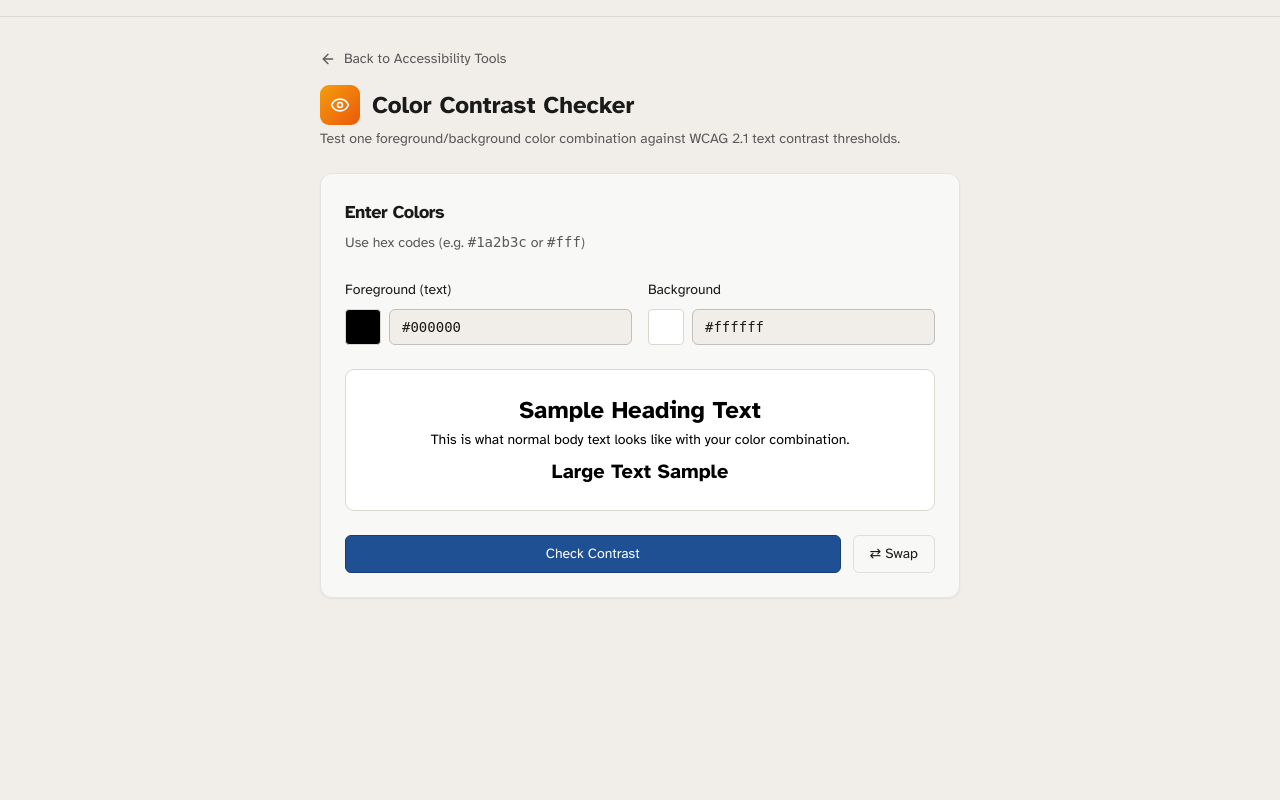
it: limited-scope accessibility check language › keeps the 'Meets AA for Large Text Only' result specific to the tested criterion
The width and height of the screenshot is (1280, 800).
Click the button with test id "button-check-contrast" at (593,554), box [345, 535, 840, 573]
(page scrolled)
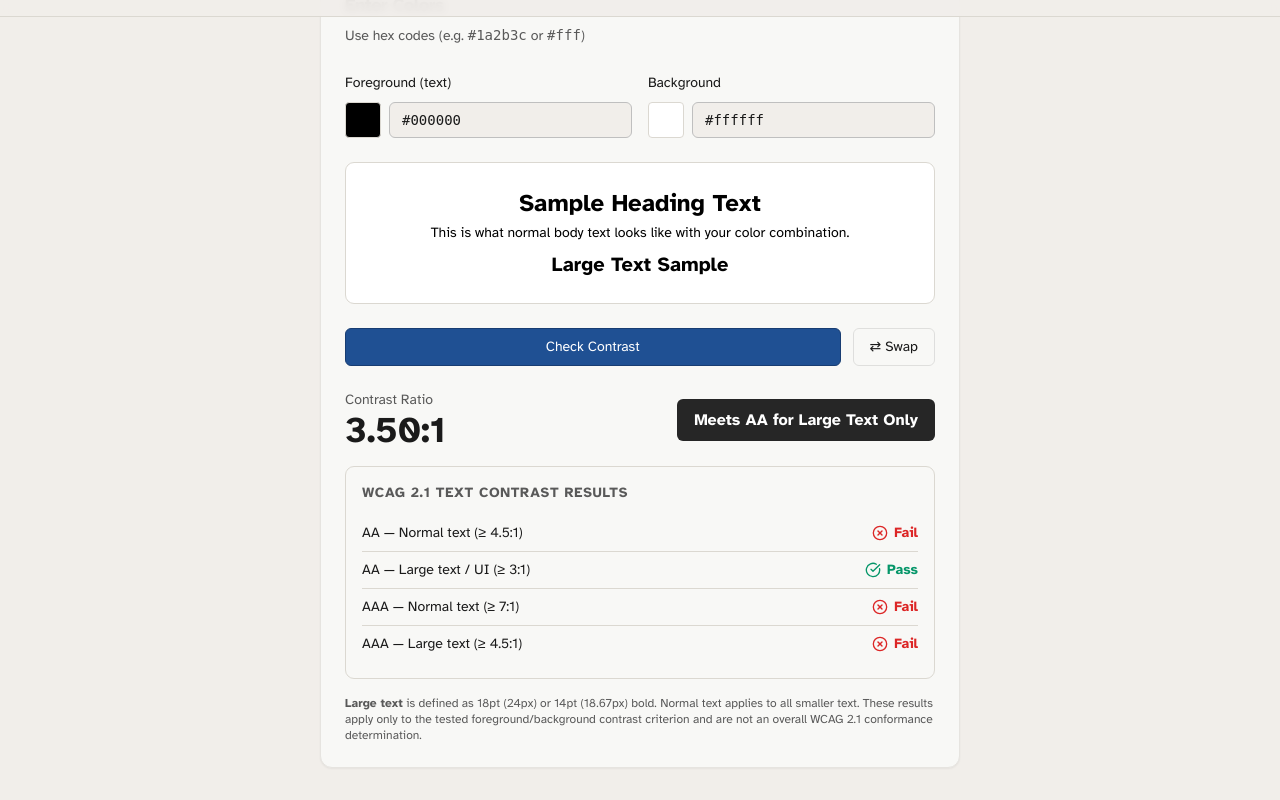
Check: the element with test id "contrast-result" is shown, box [345, 390, 935, 743]
Check: the text with test id "badge-contrast-rating" reads "Meets AA for Large Text Only", box [694, 410, 918, 430]
Check: the heading "WCAG 2.1 Text Contrast Results" is shown, box [362, 484, 628, 501]
